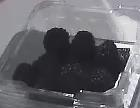berry: (56, 63, 82, 92), (71, 31, 95, 60), (96, 40, 119, 68), (43, 28, 68, 51), (37, 51, 59, 77), (12, 63, 36, 85), (88, 67, 109, 90)
